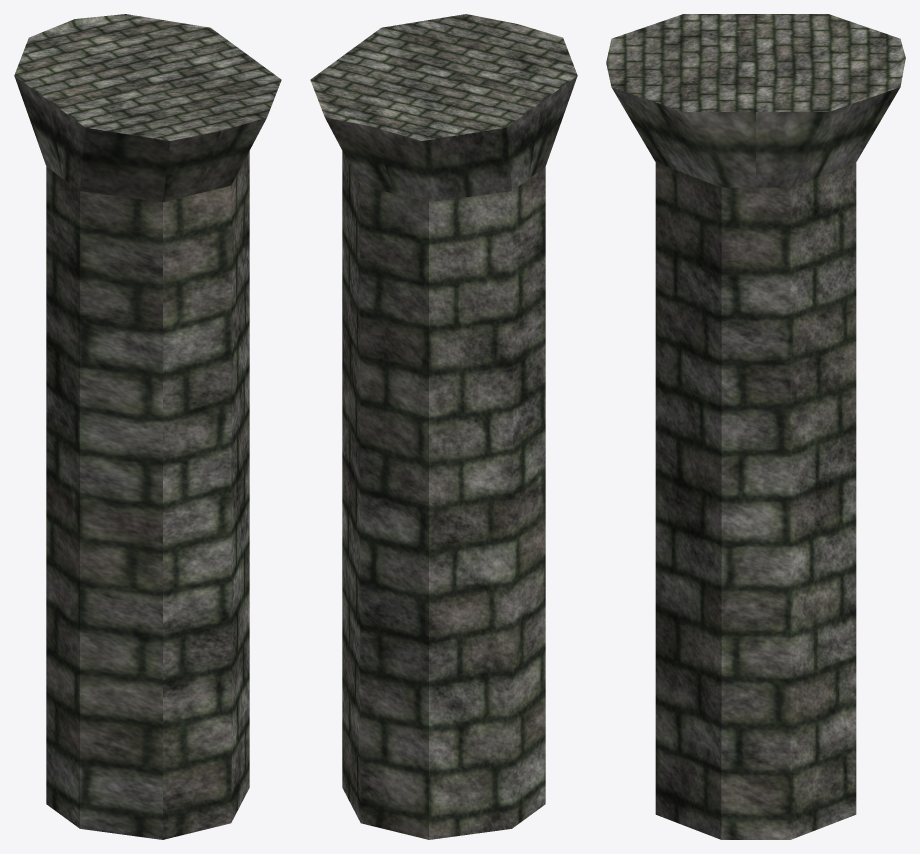
File: SuportePlataforma2.0.fbx
3 renders of one model, left to right at view 1: azimuth 30°, elevation 25°; view 2: azimuth 150°, elevation 25°; view 3: azimuth 270°, elevation 25°, orthographic. The views are drawn at different scales.
Visible parts, largest first — view 1: Cube.060; view 2: Cube.060; view 3: Cube.060.
Part boxes in pixels (x1=…): Cube.060: x1=14, y1=14, x2=281, y2=839; Cube.060: x1=310, y1=14, x2=577, y2=839; Cube.060: x1=606, y1=14, x2=905, y2=839.
Bounding box in the file's own units: 114 × 399 × 147.
